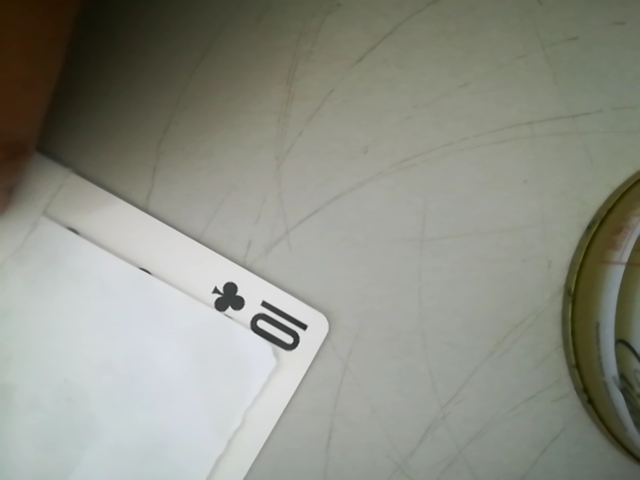mh 10: (208, 274, 314, 362)
